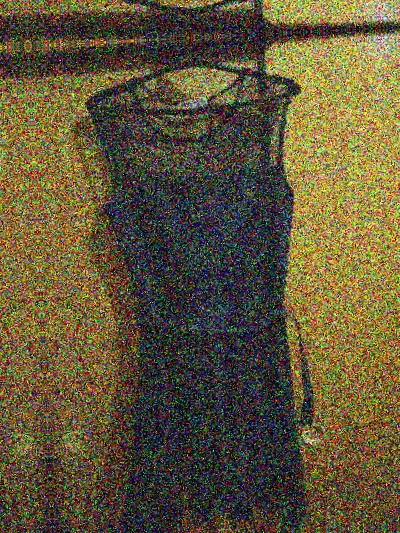Dress: (59, 57, 341, 533), (0, 73, 23, 533), (33, 0, 314, 18)
